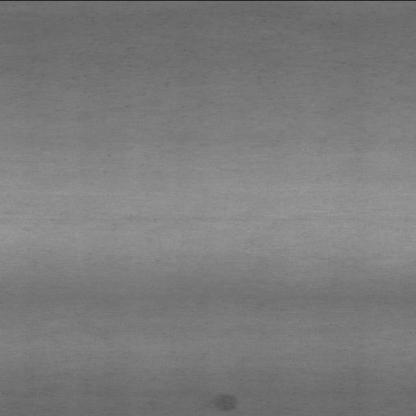oil_spot: (208, 392, 244, 414)
